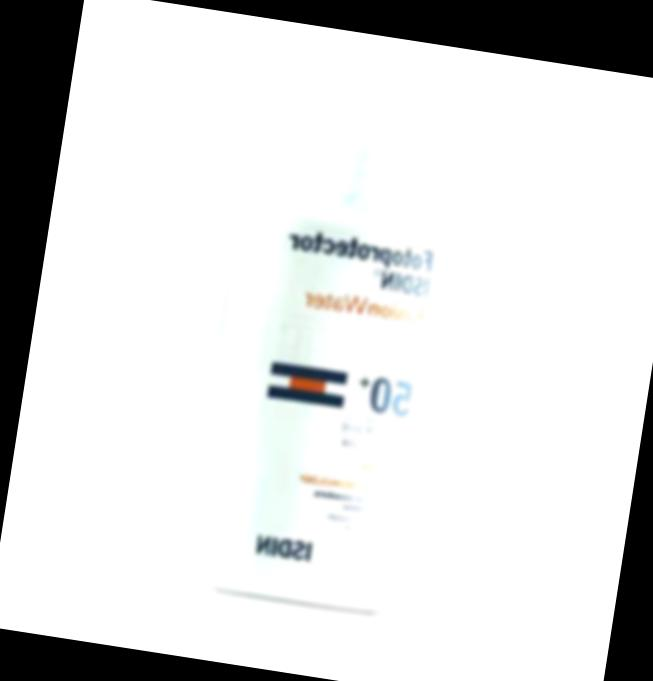cosmetic: (190, 80, 476, 622)
